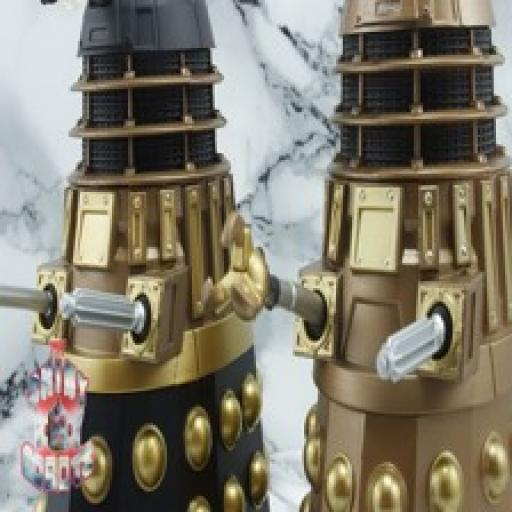dalek: (199, 0, 512, 512), (1, 0, 274, 512)
